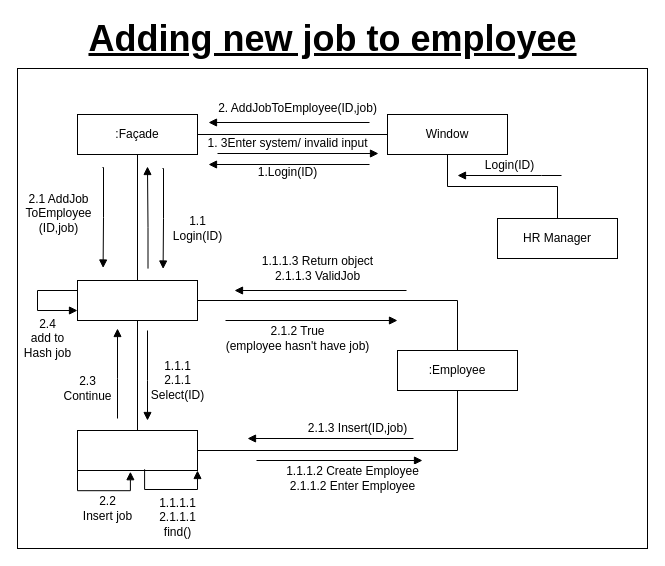
The diagram is 665 pixels wide and 566 high, and some of its shapes have lost their labels. The shapes that lost their labels are listed below. From the top down, each one's box as (x1, y1, x2, y2) in pixels, then its label:
(76, 280, 198, 320): :Controller
(76, 430, 198, 470): :DB
